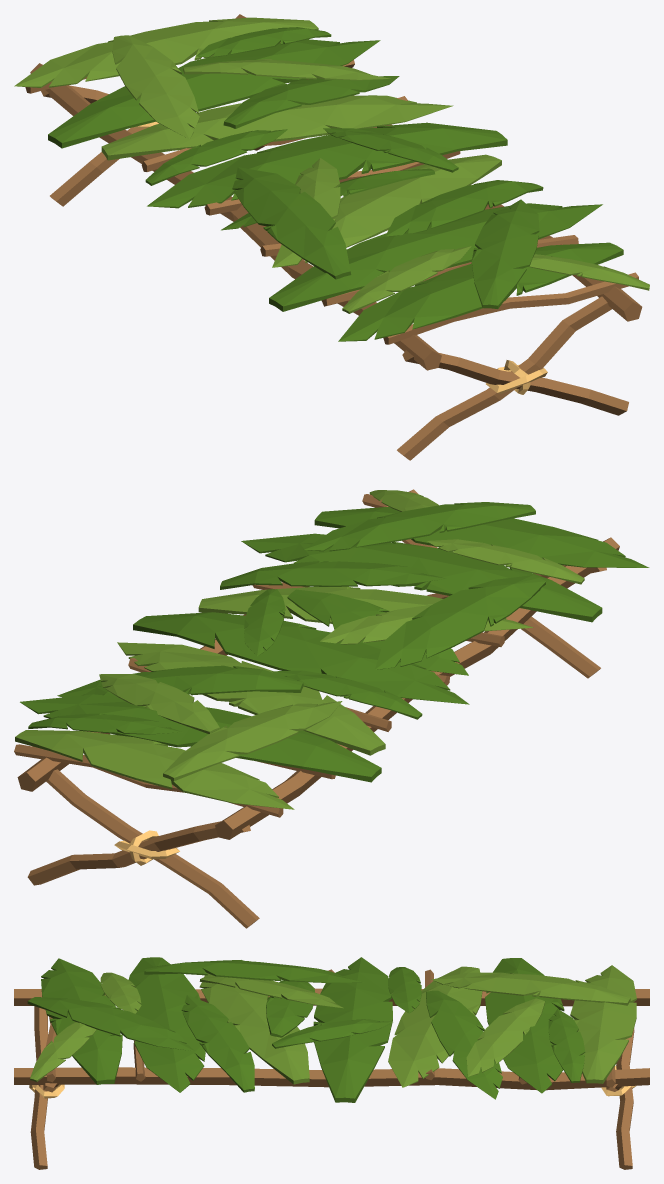
The model's file is bed.fbx.
3 views of the same model, one above another, from view 1: azimuth 30°, elevation 25°; view 2: azimuth 150°, elevation 25°; view 3: azimuth 270°, elevation 25° (orthographic). The views are drawn at different scales.
Parts seen in each view (by area): view 1: Circle; view 2: Circle; view 3: Circle.
Part boxes in pixels (x1,y1,x2,y2): Circle: (14,14,649,460); Circle: (14,489,649,928); Circle: (14,957,649,1169).
Bounding box in the file's own units: 173 × 75.61 × 340.
